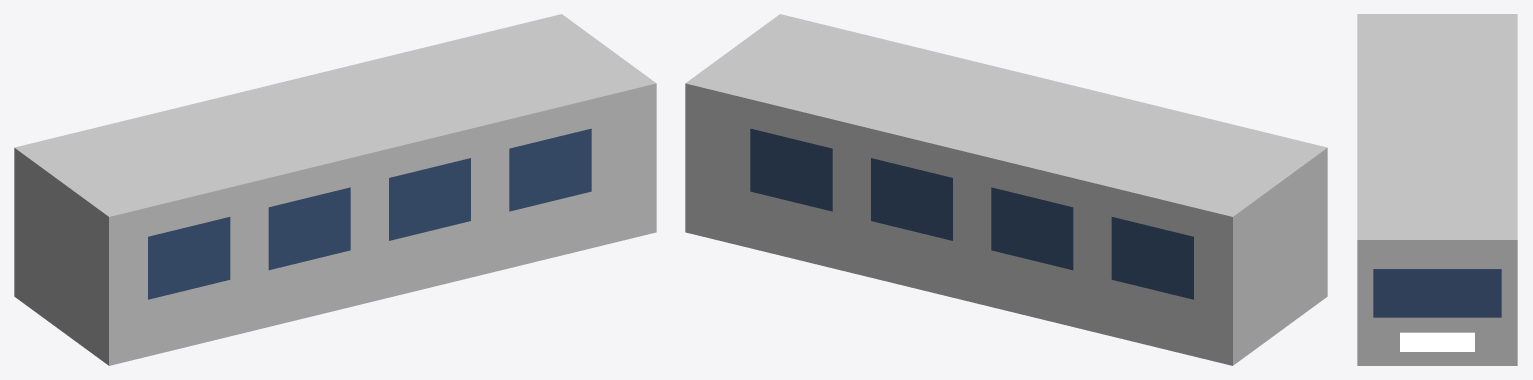
Rendered from train.glb.
The picture shows the model from 3 angles, left to right: view 1: azimuth 30°, elevation 25°; view 2: azimuth 150°, elevation 25°; view 3: azimuth 270°, elevation 25°; orthographic projection. The views are drawn at different scales.
Visible parts, largest first — view 1: train; view 2: train; view 3: train.
Boxes of the visible parts, box(x1,y1,x2,y2) form: train: box(14, 14, 656, 365); train: box(685, 14, 1327, 365); train: box(1357, 14, 1517, 365).
Size of the model in its own units: 1 by 0.275 by 0.304.
